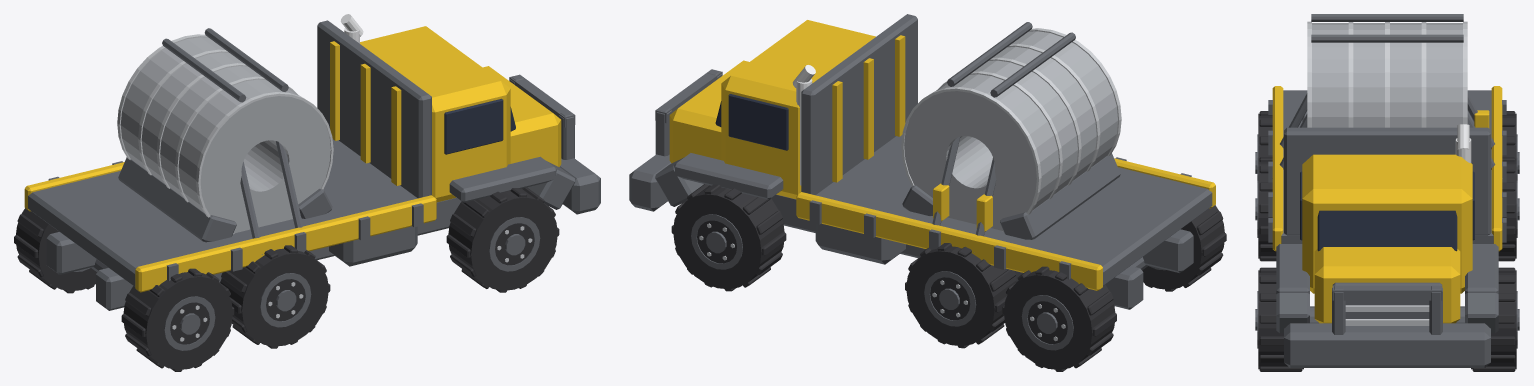
File: model_coil_hauler.glb
The picture shows the model from 3 angles, left to right: view 1: azimuth 30°, elevation 25°; view 2: azimuth 150°, elevation 25°; view 3: azimuth 270°, elevation 25°; orthographic projection. The views are drawn at different scales.
Visible parts, largest first — view 1: chassis, wheel_front_right, wheel_rear_right_2, wheel_rear_right_1, wheel_rear_left_2; view 2: chassis, wheel_front_left, wheel_rear_left_2, wheel_rear_left_1, wheel_rear_right_2; view 3: chassis, wheel_front_left, wheel_front_right, wheel_rear_left_1, wheel_rear_right_1, wheel_rear_left_2, wheel_rear_right_2.
Part boxes in pixels (x1,y1,x2,y2): chassis: (24, 14, 600, 310); wheel_front_right: (446, 187, 559, 292); wheel_rear_right_2: (121, 268, 234, 371); wheel_rear_right_1: (220, 245, 330, 348); wheel_rear_left_2: (14, 208, 96, 293); chassis: (629, 14, 1215, 309); wheel_front_left: (671, 184, 786, 291); wheel_rear_left_2: (1002, 266, 1116, 371); wheel_rear_left_1: (905, 243, 1016, 348); wheel_rear_right_2: (1142, 205, 1226, 291); chassis: (1268, 14, 1506, 367); wheel_front_left: (1471, 267, 1519, 371); wheel_front_right: (1255, 267, 1303, 371); wheel_rear_left_1: (1498, 157, 1519, 261); wheel_rear_right_1: (1255, 157, 1276, 261); wheel_rear_left_2: (1502, 111, 1519, 180); wheel_rear_right_2: (1255, 111, 1272, 180).
Bounding box in the file's own units: 0.8925 × 0.4256 × 0.435.
